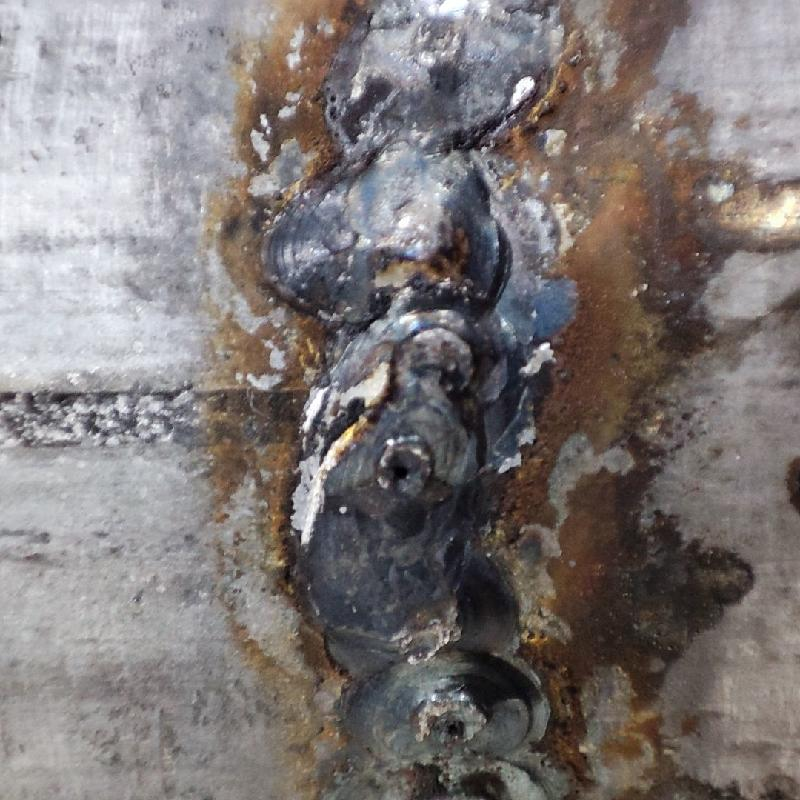Surface_pores: (359, 440, 453, 504)
